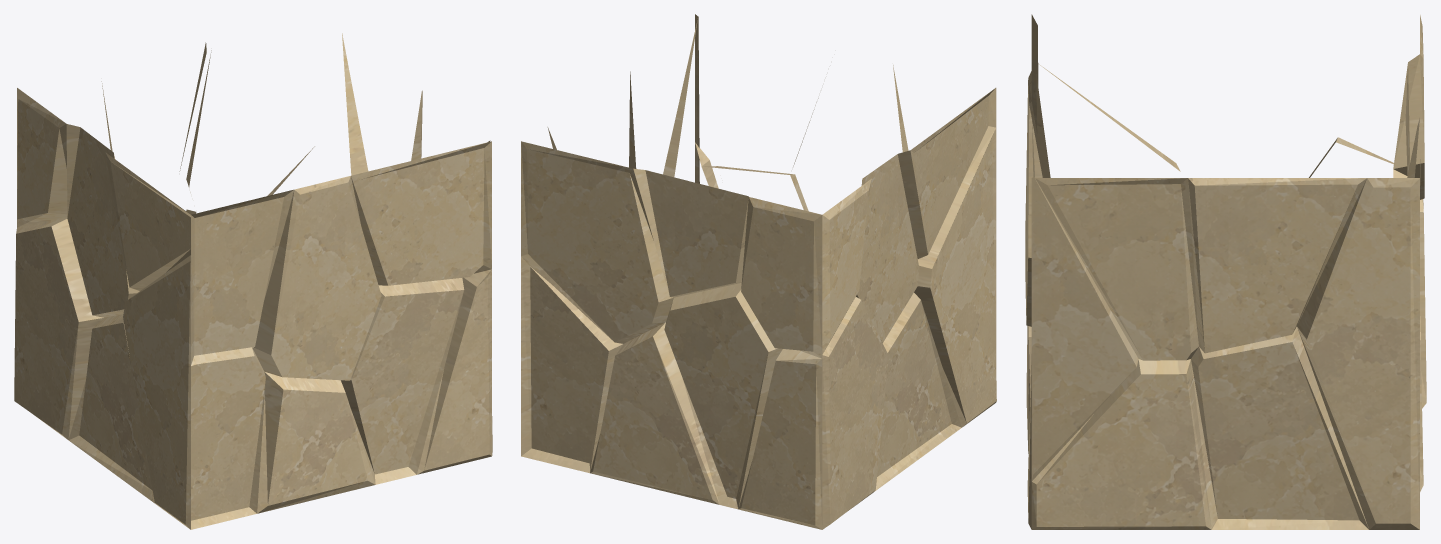
The model's file is ground_rock_09.gltf.
3 views of the same model, side by side, from view 1: azimuth 30°, elevation 25°; view 2: azimuth 150°, elevation 25°; view 3: azimuth 270°, elevation 25° (orthographic). The views are drawn at different scales.
Visible parts, largest first — view 1: ground_rock_09; view 2: ground_rock_09; view 3: ground_rock_09.
Boxes of the visible parts, box(x1,y1,x2,y2) form: ground_rock_09: box(14, 33, 492, 529); ground_rock_09: box(521, 14, 996, 529); ground_rock_09: box(1025, 14, 1426, 529).
Size of the model in its own units: 1.04 by 1 by 1.03.
Materials: 27 (27 with a texture image).
